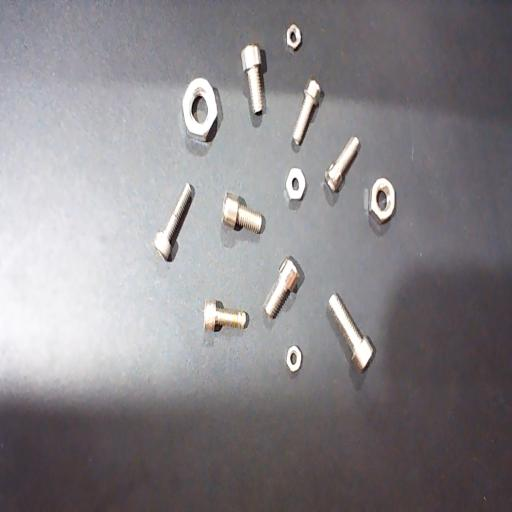nut: (182, 77, 218, 143), (369, 178, 395, 225), (286, 169, 306, 200), (286, 24, 301, 50), (286, 346, 301, 372)
screw: (328, 293, 374, 374), (155, 182, 192, 261), (264, 258, 300, 320), (324, 136, 360, 193), (292, 80, 320, 144), (221, 192, 263, 234), (241, 44, 263, 115), (203, 299, 246, 332)
